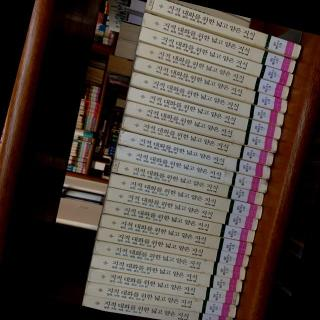book-spine: (141, 12, 297, 73), (138, 26, 294, 87), (134, 41, 290, 100), (145, 0, 301, 58), (133, 56, 289, 113), (130, 71, 286, 126), (126, 86, 283, 140), (124, 101, 279, 153), (118, 129, 272, 180), (121, 115, 274, 166), (115, 145, 269, 193), (108, 172, 263, 219), (111, 159, 264, 205), (105, 186, 259, 231), (102, 199, 255, 243), (100, 213, 253, 255), (97, 227, 250, 268), (94, 240, 247, 280), (87, 267, 240, 306), (90, 254, 243, 292), (85, 281, 238, 318), (82, 294, 233, 320)
